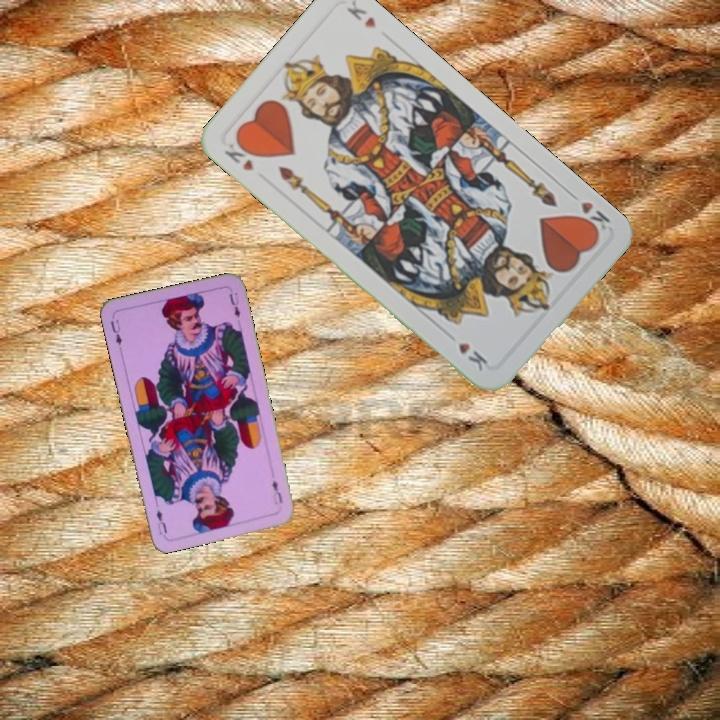EU: (107, 316, 124, 348), (268, 476, 285, 508)
HK: (564, 187, 613, 238), (220, 135, 260, 174)
